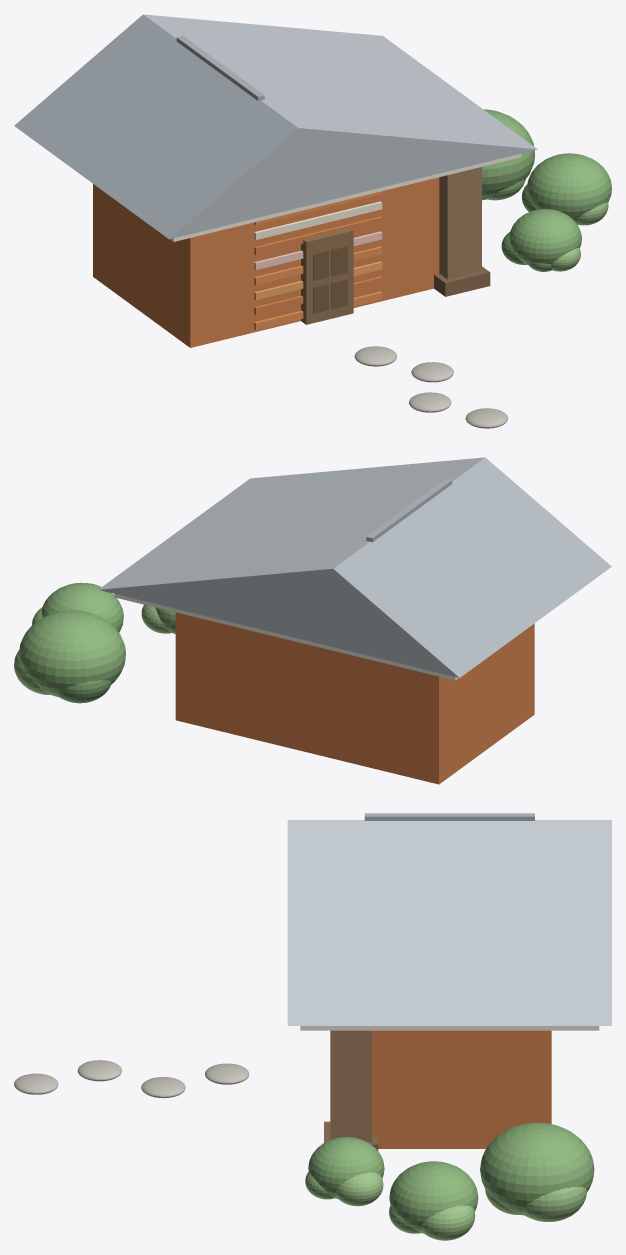
The model's file is Casa69.glb.
The picture shows the model from 3 angles, top to bottom: view 1: azimuth 30°, elevation 25°; view 2: azimuth 150°, elevation 25°; view 3: azimuth 270°, elevation 25°; orthographic projection. The views are drawn at different scales.
Visible parts, largest first — view 1: Casa2_Techo_LadoChico, Casa2_ParedFondo, Casa2_Techo_LadoGrande, Casa2_Techo_GableFrente, Casa2_ColumnaFuste, Casa2_Arbusto2_0, Casa2_Arbusto3_0, Casa2_Puerta, Casa2_Arbusto1_0, Casa2_Alero, Casa2_Tabla_6, Casa2_ColumnaPlinto (+11 smaller); view 2: Casa2_ParedFondo, Casa2_Techo_LadoChico, Casa2_Techo_LadoGrande, Casa2_Techo_GableAtras, Casa2_Arbusto1_0, Casa2_Arbusto2_0, Casa2_Alero, Casa2_VigaCumbrera, Casa2_Arbusto1_2, Casa2_Arbusto3_1, Casa2_Arbusto1_1; view 3: Casa2_Techo_LadoGrande, Casa2_ParedFondo, Casa2_Arbusto1_0, Casa2_ColumnaFuste, Casa2_Arbusto2_0, Casa2_Arbusto3_0, Casa2_Arbusto1_1, Casa2_Alero, Casa2_Arbusto2_1, Casa2_VigaCumbrera, Casa2_Arbusto3_1, Casa2_Piedra_2 (+3 smaller).
Part boxes in pixels (left/top/right/bottom): Casa2_Techo_LadoChico: left=14, top=14, right=297, bottom=238; Casa2_ParedFondo: left=93, top=177, right=439, bottom=347; Casa2_Techo_LadoGrande: left=143, top=14, right=537, bottom=149; Casa2_Techo_GableFrente: left=169, top=128, right=537, bottom=239; Casa2_ColumnaFuste: left=439, top=167, right=481, bottom=279; Casa2_Arbusto2_0: left=527, top=153, right=611, bottom=220; Casa2_Arbusto3_0: left=509, top=209, right=581, bottom=264; Casa2_Puerta: left=301, top=228, right=353, bottom=324; Casa2_Arbusto1_0: left=482, top=109, right=534, bottom=197; Casa2_Alero: left=170, top=153, right=521, bottom=241; Casa2_Tabla_6: left=254, top=201, right=382, bottom=239; Casa2_ColumnaPlinto: left=434, top=266, right=490, bottom=296; Casa2_ParedFondo: left=175, top=612, right=534, bottom=784; Casa2_Techo_LadoChico: left=333, top=457, right=611, bottom=677; Casa2_Techo_LadoGrande: left=99, top=457, right=484, bottom=589; Casa2_Techo_GableAtras: left=98, top=569, right=459, bottom=677; Casa2_Arbusto1_0: left=19, top=610, right=125, bottom=697; Casa2_Arbusto2_0: left=41, top=582, right=123, bottom=632; Casa2_Alero: left=114, top=594, right=458, bottom=680; Casa2_VigaCumbrera: left=366, top=478, right=452, bottom=542; Casa2_Arbusto1_2: left=57, top=680, right=111, bottom=703; Casa2_Arbusto3_1: left=141, top=604, right=171, bottom=633; Casa2_Arbusto1_1: left=14, top=650, right=50, bottom=694; Casa2_Techo_LadoGrande: left=287, top=820, right=611, bottom=1025; Casa2_ParedFondo: left=372, top=1030, right=551, bottom=1148; Casa2_Arbusto1_0: left=480, top=1122, right=594, bottom=1215; Casa2_ColumnaFuste: left=330, top=1030, right=371, bottom=1141; Casa2_Arbusto2_0: left=389, top=1161, right=478, bottom=1233; Casa2_Arbusto3_0: left=308, top=1137, right=384, bottom=1198; Casa2_Arbusto1_1: left=522, top=1186, right=587, bottom=1221; Casa2_Alero: left=300, top=1026, right=599, bottom=1030; Casa2_Arbusto2_1: left=420, top=1205, right=475, bottom=1240; Casa2_VigaCumbrera: left=364, top=813, right=534, bottom=820; Casa2_Arbusto3_1: left=335, top=1172, right=383, bottom=1206; Casa2_Piedra_2: left=77, top=1060, right=121, bottom=1081.
Bounding box in the file's own units: 3.89 × 1.67 × 3.76.
